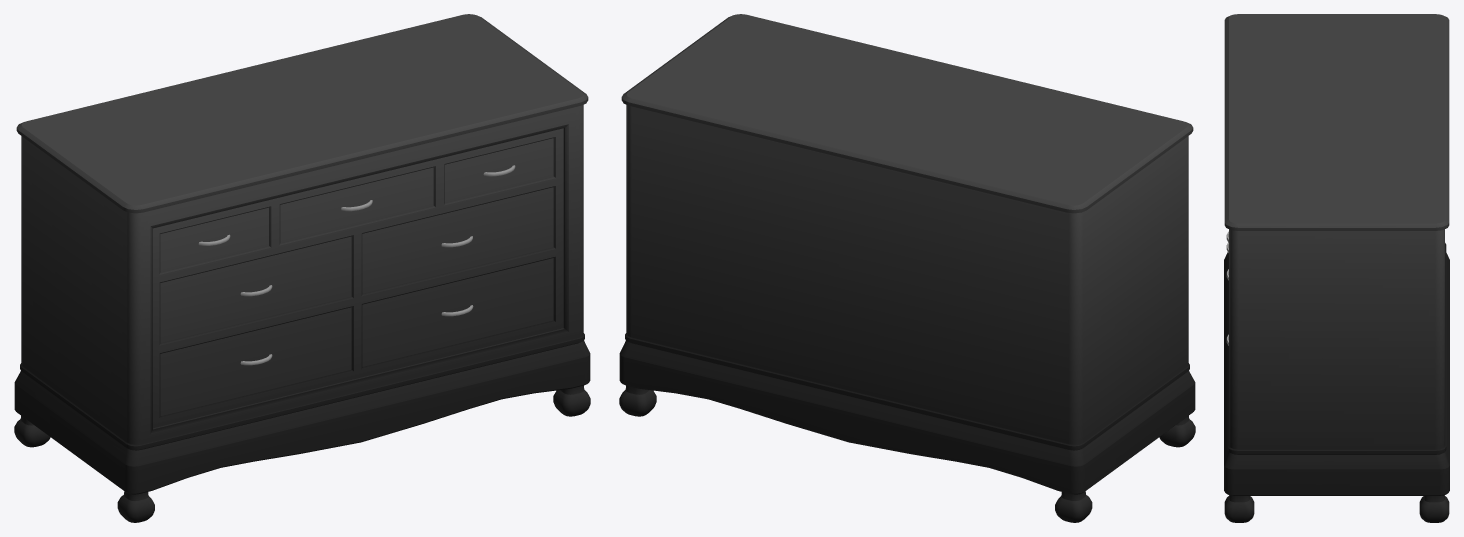
The model's file is Draw_02.fbx.
3 renders of one model, left to right at view 1: azimuth 30°, elevation 25°; view 2: azimuth 150°, elevation 25°; view 3: azimuth 270°, elevation 25°, orthographic. The views are drawn at different scales.
Parts seen in each view (by area): view 1: Draw_2; view 2: Draw_2; view 3: Draw_2.
Boxes of the visible parts, bbox=[...] form: Draw_2: bbox=[14, 14, 590, 522]; Draw_2: bbox=[619, 14, 1195, 522]; Draw_2: bbox=[1224, 14, 1449, 522].
Size of the model in its own units: 1.75 by 1.14 by 0.7813.
